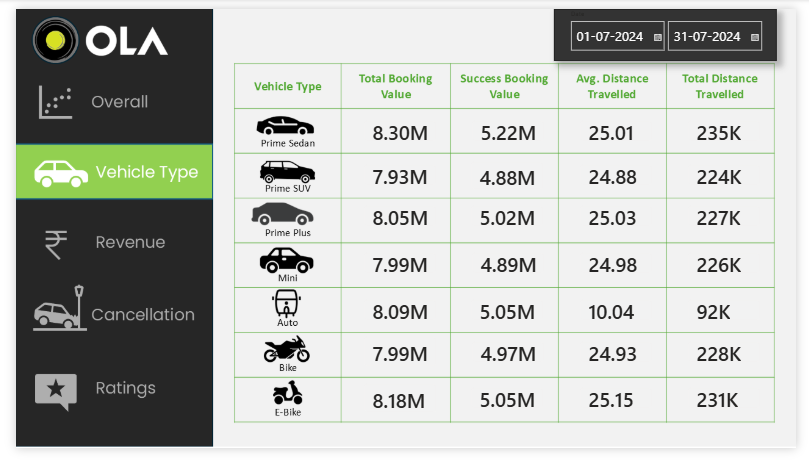

Layout of this report page (visuals, bound fields, positions):
{"tool":"powerbi","page":{"name":"Vehicle Type","canvas":[1280,720],"ordinal":1},"visuals":[{"type":"actionButton","box":[0,338.4,324,90.7],"z":0},{"type":"actionButton","box":[0,445,324,92.2],"z":1000},{"type":"actionButton","box":[0,573.1,324,92.2],"z":2000},{"type":"actionButton","box":[0,108,324,90.7],"z":3000},{"type":"cardVisual","fields":{"Data":["Sum(Bookings2.Booking_Value)"]},"box":[539.7,167.6,164.7,61.8],"z":3001},{"type":"cardVisual","fields":{"Data":["Sum(Bookings2.Booking_Value)"]},"box":[714.7,233.8,164.7,73.5],"z":3002},{"type":"cardVisual","fields":{"Data":["Sum(Bookings2.Booking_Value)"]},"box":[539.7,307.4,164.7,61.8],"z":3003},{"type":"cardVisual","fields":{"Data":["Sum(Bookings2.Booking_Value)"]},"box":[539.7,383.8,164.7,61.8],"z":3004},{"type":"cardVisual","fields":{"Data":["Sum(Bookings2.Booking_Value)"]},"box":[539.7,460.3,164.7,61.8],"z":3005},{"type":"cardVisual","fields":{"Data":["Sum(Bookings2.Booking_Value)"]},"box":[716.2,167.6,164.7,61.8],"z":3006},{"type":"cardVisual","fields":{"Data":["Avg(Bookings2.Ride_Distance)"]},"box":[894.1,167.6,164.7,61.8],"z":3008},{"type":"cardVisual","fields":{"Data":["Sum(Bookings2.Booking_Value)"]},"box":[539.7,239.7,164.7,61.8],"z":3010},{"type":"cardVisual","fields":{"Data":["Sum(Bookings2.Booking_Value)"]},"box":[539.7,522.1,164.7,76.5],"z":3012},{"type":"cardVisual","fields":{"Data":["Sum(Bookings2.Booking_Value)"]},"box":[539.7,598.5,164.7,75],"z":3013},{"type":"cardVisual","fields":{"Data":["Sum(Bookings2.Booking_Value)"]},"box":[714.7,307.4,164.7,61.8],"z":3014},{"type":"cardVisual","fields":{"Data":["Sum(Bookings2.Booking_Value)"]},"box":[716.2,383.8,164.7,61.8],"z":3028},{"type":"cardVisual","fields":{"Data":["Sum(Bookings2.Booking_Value)"]},"box":[714.7,604.4,164.7,61.8],"z":3029},{"type":"cardVisual","fields":{"Data":["Sum(Bookings2.Booking_Value)"]},"box":[716.2,529.4,164.7,61.8],"z":3030},{"type":"cardVisual","fields":{"Data":["Sum(Bookings2.Booking_Value)"]},"box":[714.7,460.3,164.7,61.8],"z":3031},{"type":"cardVisual","fields":{"Data":["Avg(Bookings2.Ride_Distance)"]},"box":[894.1,529.4,164.7,61.8],"z":3032},{"type":"cardVisual","fields":{"Data":["Avg(Bookings2.Ride_Distance)"]},"box":[894.1,604.4,164.7,61.8],"z":3033},{"type":"cardVisual","fields":{"Data":["Avg(Bookings2.Ride_Distance)"]},"box":[894.1,239.7,164.7,61.8],"z":3034},{"type":"cardVisual","fields":{"Data":["Avg(Bookings2.Ride_Distance)"]},"box":[894.1,307.4,164.7,61.8],"z":3035},{"type":"cardVisual","fields":{"Data":["Avg(Bookings2.Ride_Distance)"]},"box":[894.1,383.8,164.7,61.8],"z":3036},{"type":"cardVisual","fields":{"Data":["Avg(Bookings2.Ride_Distance)"]},"box":[894.1,460.3,164.7,61.8],"z":3037},{"type":"cardVisual","fields":{"Data":["Sum(Bookings2.Ride_Distance)"]},"box":[1070.6,167.6,164.7,61.8],"z":3038},{"type":"cardVisual","fields":{"Data":["Sum(Bookings2.Ride_Distance)"]},"box":[1070.6,239.7,164.7,61.8],"z":3039},{"type":"cardVisual","fields":{"Data":["Sum(Bookings2.Ride_Distance)"]},"box":[1070.6,307.4,164.7,61.8],"z":3040},{"type":"cardVisual","fields":{"Data":["Sum(Bookings2.Ride_Distance)"]},"box":[1070.6,383.8,164.7,61.8],"z":3041},{"type":"cardVisual","fields":{"Data":["Sum(Bookings2.Ride_Distance)"]},"box":[1070.6,460.3,164.7,61.8],"z":3042},{"type":"cardVisual","fields":{"Data":["Sum(Bookings2.Ride_Distance)"]},"box":[1070.6,529.4,164.7,61.8],"z":3043},{"type":"cardVisual","fields":{"Data":["Sum(Bookings2.Ride_Distance)"]},"box":[1070.6,604.4,164.7,61.8],"z":3044},{"type":"slicer","title":"Date","fields":{"Values":["Bookings2.Date"]},"box":[881.7,0,365,85],"z":3045}]}

Visuals, with their boxes on the page's 1280x720 design canvas (x1, y1, x2, y2). These are canvas units, not pixel positions in the 809x471 screenshot, which may show the page scaled, cropped or inside an application window:
actionButton: box(0, 338, 324, 429)
actionButton: box(0, 445, 324, 537)
actionButton: box(0, 573, 324, 665)
actionButton: box(0, 108, 324, 199)
cardVisual - Sum(Bookings2.Booking_Value): box(540, 168, 704, 229)
cardVisual - Sum(Bookings2.Booking_Value): box(715, 234, 879, 307)
cardVisual - Sum(Bookings2.Booking_Value): box(540, 307, 704, 369)
cardVisual - Sum(Bookings2.Booking_Value): box(540, 384, 704, 446)
cardVisual - Sum(Bookings2.Booking_Value): box(540, 460, 704, 522)
cardVisual - Sum(Bookings2.Booking_Value): box(716, 168, 881, 229)
cardVisual - Avg(Bookings2.Ride_Distance): box(894, 168, 1059, 229)
cardVisual - Sum(Bookings2.Booking_Value): box(540, 240, 704, 302)
cardVisual - Sum(Bookings2.Booking_Value): box(540, 522, 704, 599)
cardVisual - Sum(Bookings2.Booking_Value): box(540, 598, 704, 674)
cardVisual - Sum(Bookings2.Booking_Value): box(715, 307, 879, 369)
cardVisual - Sum(Bookings2.Booking_Value): box(716, 384, 881, 446)
cardVisual - Sum(Bookings2.Booking_Value): box(715, 604, 879, 666)
cardVisual - Sum(Bookings2.Booking_Value): box(716, 529, 881, 591)
cardVisual - Sum(Bookings2.Booking_Value): box(715, 460, 879, 522)
cardVisual - Avg(Bookings2.Ride_Distance): box(894, 529, 1059, 591)
cardVisual - Avg(Bookings2.Ride_Distance): box(894, 604, 1059, 666)
cardVisual - Avg(Bookings2.Ride_Distance): box(894, 240, 1059, 302)
cardVisual - Avg(Bookings2.Ride_Distance): box(894, 307, 1059, 369)
cardVisual - Avg(Bookings2.Ride_Distance): box(894, 384, 1059, 446)
cardVisual - Avg(Bookings2.Ride_Distance): box(894, 460, 1059, 522)
cardVisual - Sum(Bookings2.Ride_Distance): box(1071, 168, 1235, 229)
cardVisual - Sum(Bookings2.Ride_Distance): box(1071, 240, 1235, 302)
cardVisual - Sum(Bookings2.Ride_Distance): box(1071, 307, 1235, 369)
cardVisual - Sum(Bookings2.Ride_Distance): box(1071, 384, 1235, 446)
cardVisual - Sum(Bookings2.Ride_Distance): box(1071, 460, 1235, 522)
cardVisual - Sum(Bookings2.Ride_Distance): box(1071, 529, 1235, 591)
cardVisual - Sum(Bookings2.Ride_Distance): box(1071, 604, 1235, 666)
"Date" slicer: box(882, 0, 1247, 85)
